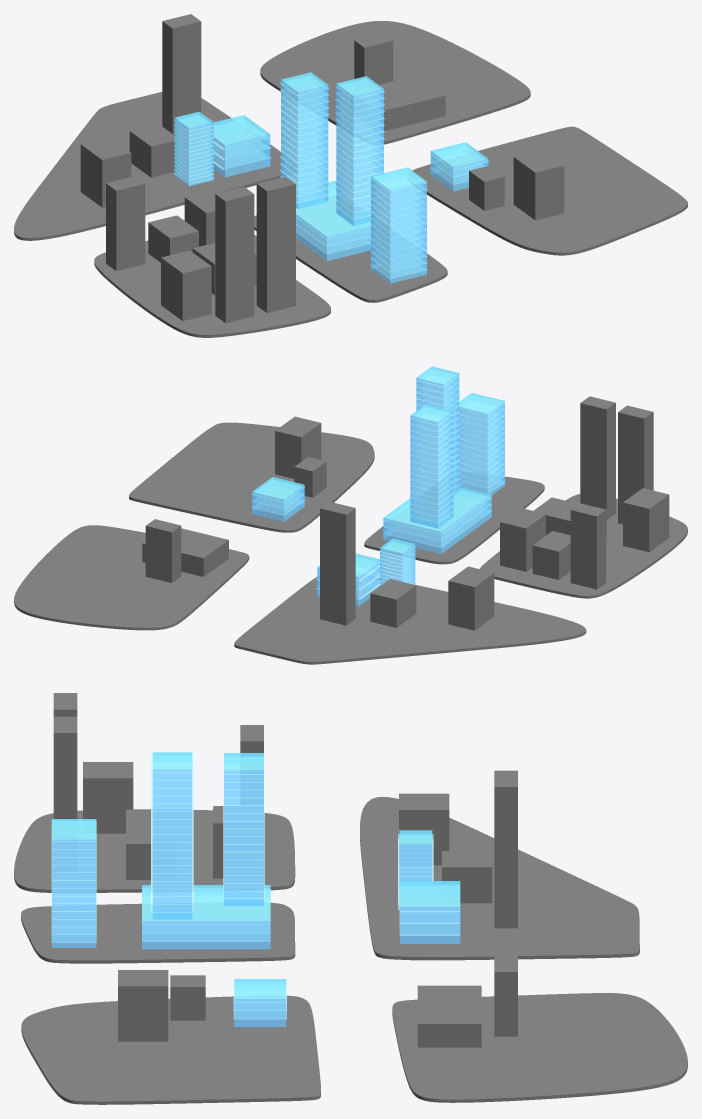
3 views of the same model, one above another, from view 1: azimuth 30°, elevation 25°; view 2: azimuth 150°, elevation 25°; view 3: azimuth 270°, elevation 25° (orthographic). The views are drawn at different scales.
Visible parts, largest first — view 1: NURBS 曲线.001, NURBS 曲线.003, NURBS 曲线, Cube.006, NURBS 曲线.004, Cube.005, Cube.003, Floor.001, Cube.015, Cube.021, Floor.003, Floor (+21 smaller); view 2: NURBS 曲线, NURBS 曲线.003, NURBS 曲线.001, Cube.003, NURBS 曲线.004, Cube.005, Floor, Cube.012, Cube.021, Floor.003, NURBS 曲线.002, Cube.004 (+21 smaller); view 3: NURBS 曲线.001, NURBS 曲线.003, NURBS 曲线, NURBS 曲线.002, NURBS 曲线.004, Cube.006, Floor.001, Cube.004, Cube.003, Floor, Cube.005, Floor.003 (+19 smaller).
Part boxes in pixels (x1,y1,x2,y2): NURBS 曲线.001: (412, 126, 687, 255); NURBS 曲线.003: (260, 21, 530, 144); NURBS 曲线: (14, 92, 280, 240); Cube.006: (336, 76, 383, 225); NURBS 曲线.004: (94, 240, 330, 337); Cube.005: (371, 167, 426, 283); Cube.003: (281, 72, 328, 209); Floor.001: (335, 79, 384, 219); Cube.015: (215, 187, 254, 323); Cube.021: (256, 176, 295, 312); Floor.003: (370, 169, 427, 278); Floor: (280, 76, 329, 203); NURBS 曲线: (234, 577, 586, 664); NURBS 曲线.003: (14, 525, 249, 630); NURBS 曲线.001: (129, 422, 374, 532); Cube.003: (410, 404, 453, 528); NURBS 曲线.004: (480, 494, 687, 598); Cube.005: (459, 393, 504, 495); Floor: (409, 407, 454, 523); Cube.012: (320, 501, 355, 625); Cube.021: (580, 396, 615, 519); Floor.003: (459, 395, 505, 493); NURBS 曲线.002: (364, 476, 544, 564); Cube.004: (383, 487, 491, 553); NURBS 曲线.001: (21, 995, 320, 1104); NURBS 曲线.003: (392, 993, 687, 1102); NURBS 曲线: (360, 796, 639, 960); NURBS 曲线.002: (21, 902, 295, 963); NURBS 曲线.004: (14, 809, 295, 892); Cube.006: (152, 752, 192, 919); Floor.001: (151, 755, 193, 912); Cube.004: (142, 885, 270, 949); Cube.003: (224, 753, 263, 905); Floor: (223, 756, 264, 899); Cube.005: (52, 819, 96, 947); Floor.003: (51, 820, 96, 942).
Size of what is drawn, in the model's own units: 43.72 by 12.17 by 40.87.
